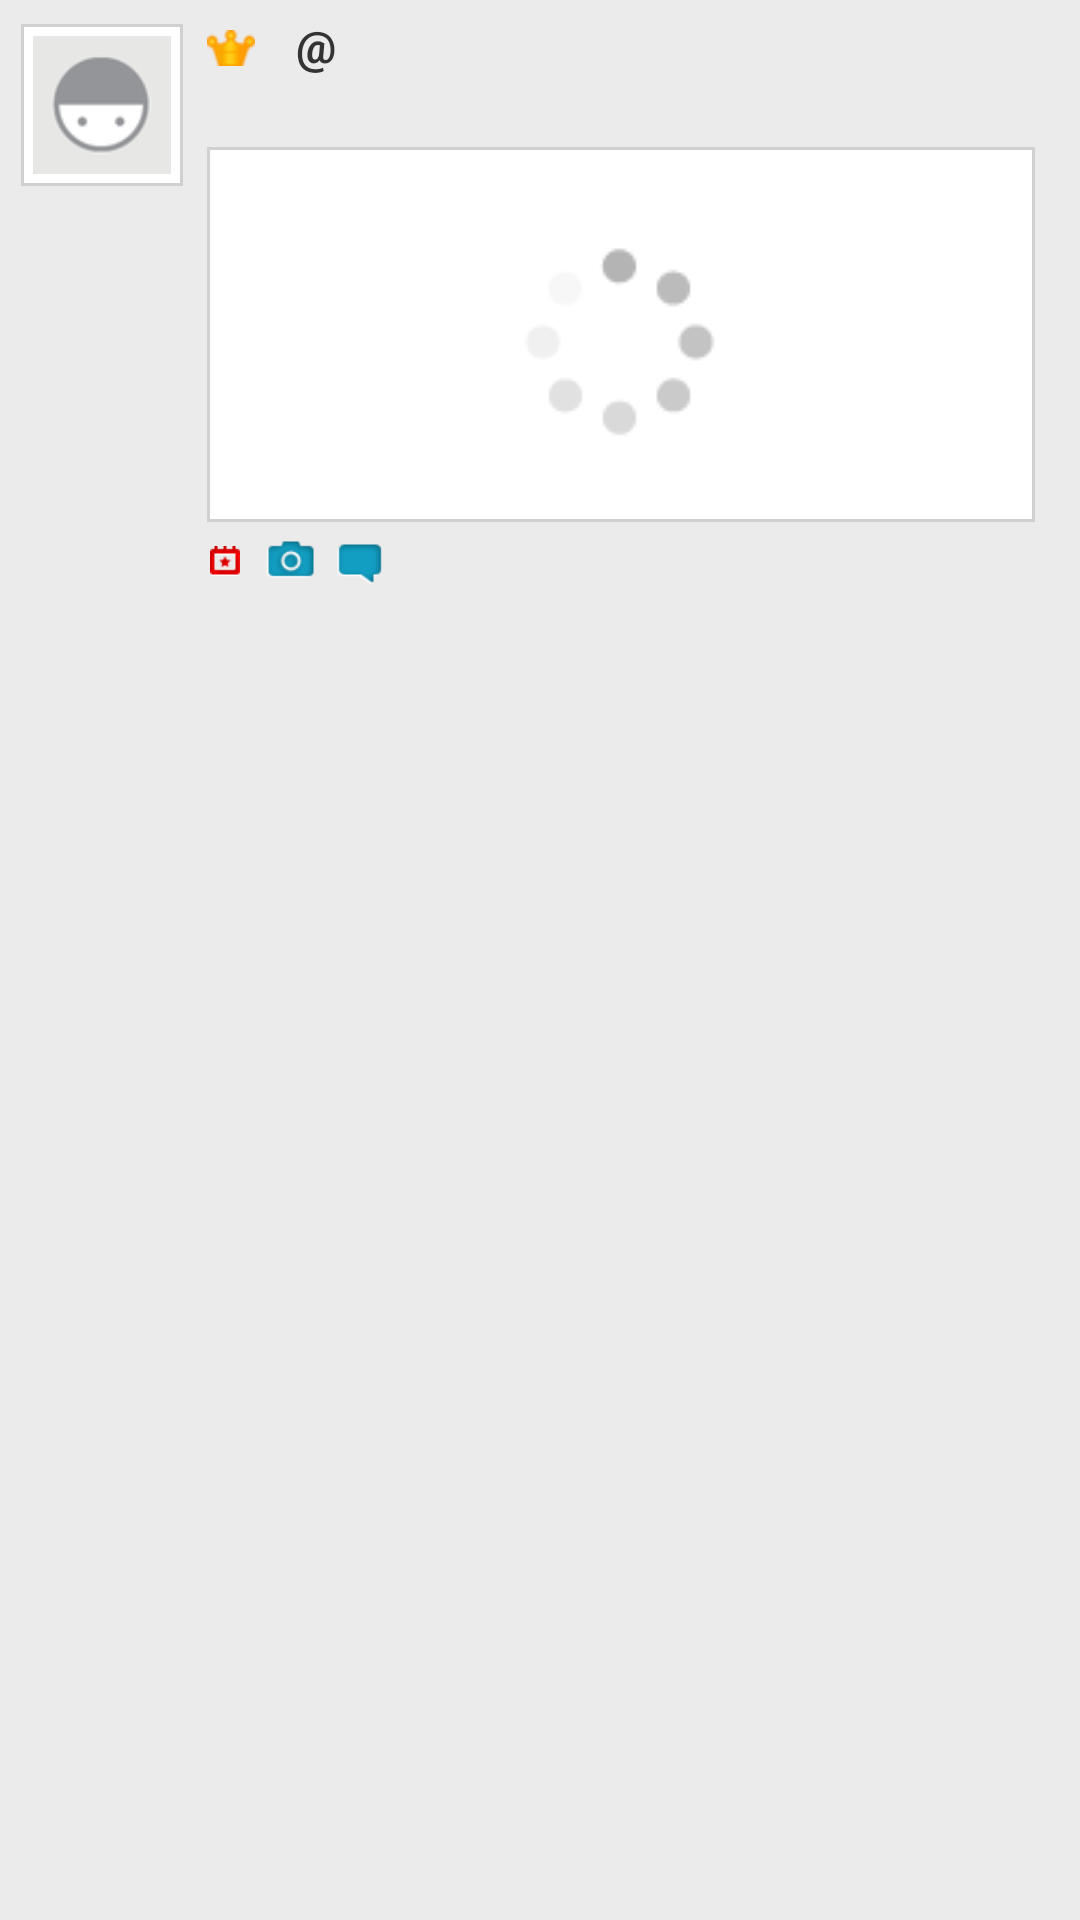

Icon bounding boxes for this 1080 x 1920 phone screenshot, format (x1, y1, x2, y2):
blank boy: (21, 24, 183, 186)
checkin photo loading: (550, 249, 713, 434)
comments: (339, 544, 382, 583)
crown: (207, 30, 255, 66)
event: (210, 546, 240, 575)
photos: (268, 541, 314, 576)
